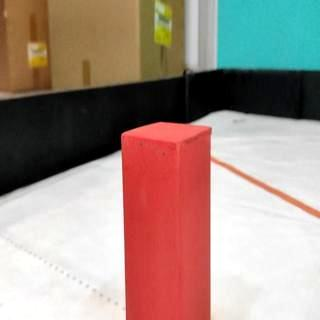redbox: (122, 122, 214, 320)
